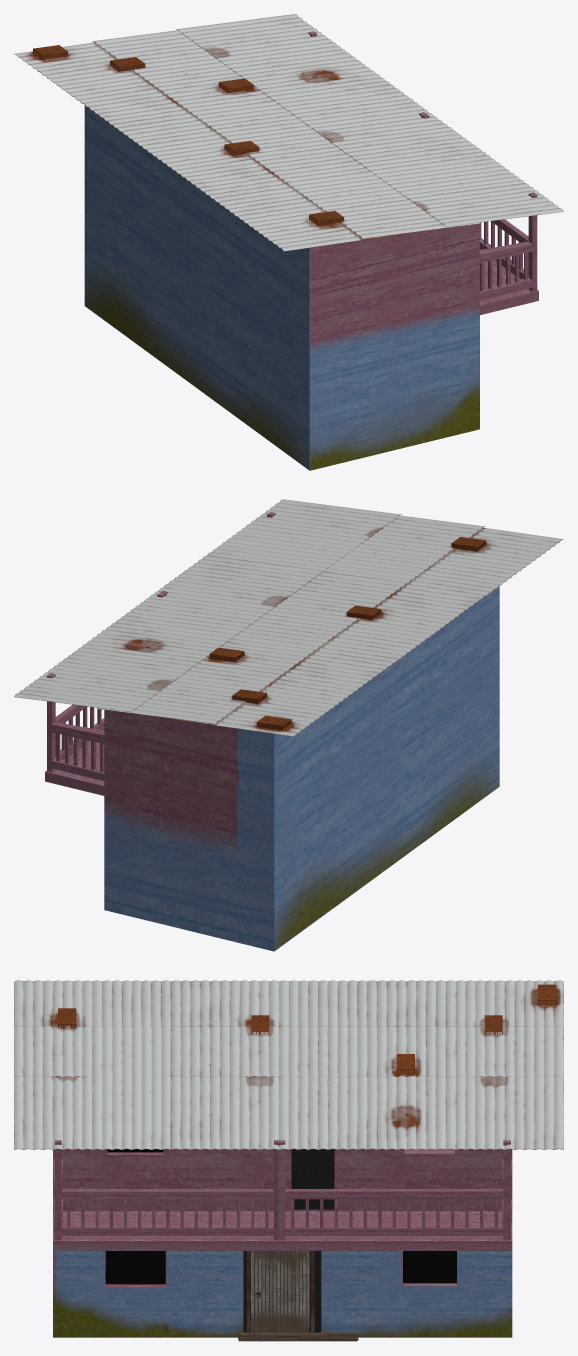
The model's file is Casa02.fbx.
The picture shows the model from 3 angles, top to bottom: view 1: azimuth 30°, elevation 25°; view 2: azimuth 150°, elevation 25°; view 3: azimuth 270°, elevation 25°; orthographic projection.
Parts seen in each view (by area): view 1: Casa 01, Techo_1.015; view 2: Casa 01, Techo_1.015; view 3: Techo_1.015, Casa 01, Detalles_Casa.002.
Part boxes in pixels (x1,y1,x2,y2): Casa 01: (84, 31, 538, 470); Techo_1.015: (14, 14, 563, 251); Casa 01: (45, 512, 499, 951); Techo_1.015: (14, 499, 563, 736); Techo_1.015: (14, 980, 563, 1149); Casa 01: (53, 1140, 512, 1337); Detalles_Casa.002: (237, 1251, 358, 1341).
Bounding box in the file's own units: 3633 × 3095 × 6055.
